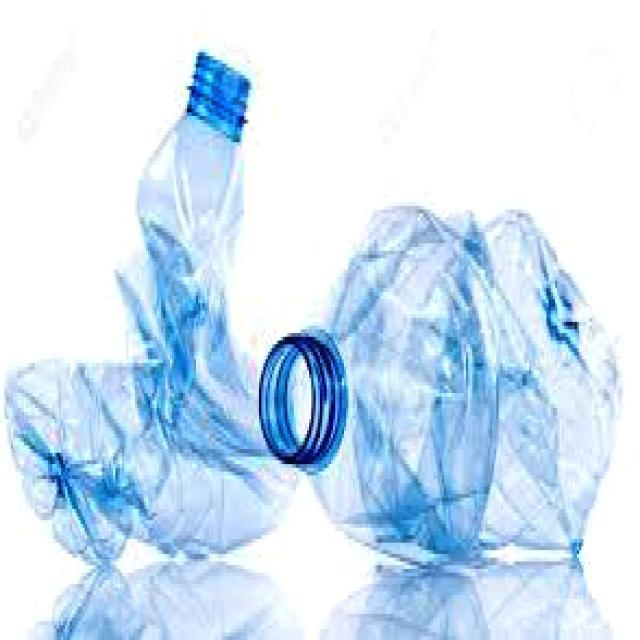BIODEGRADABLE: (2, 50, 294, 559), (261, 190, 626, 578)
